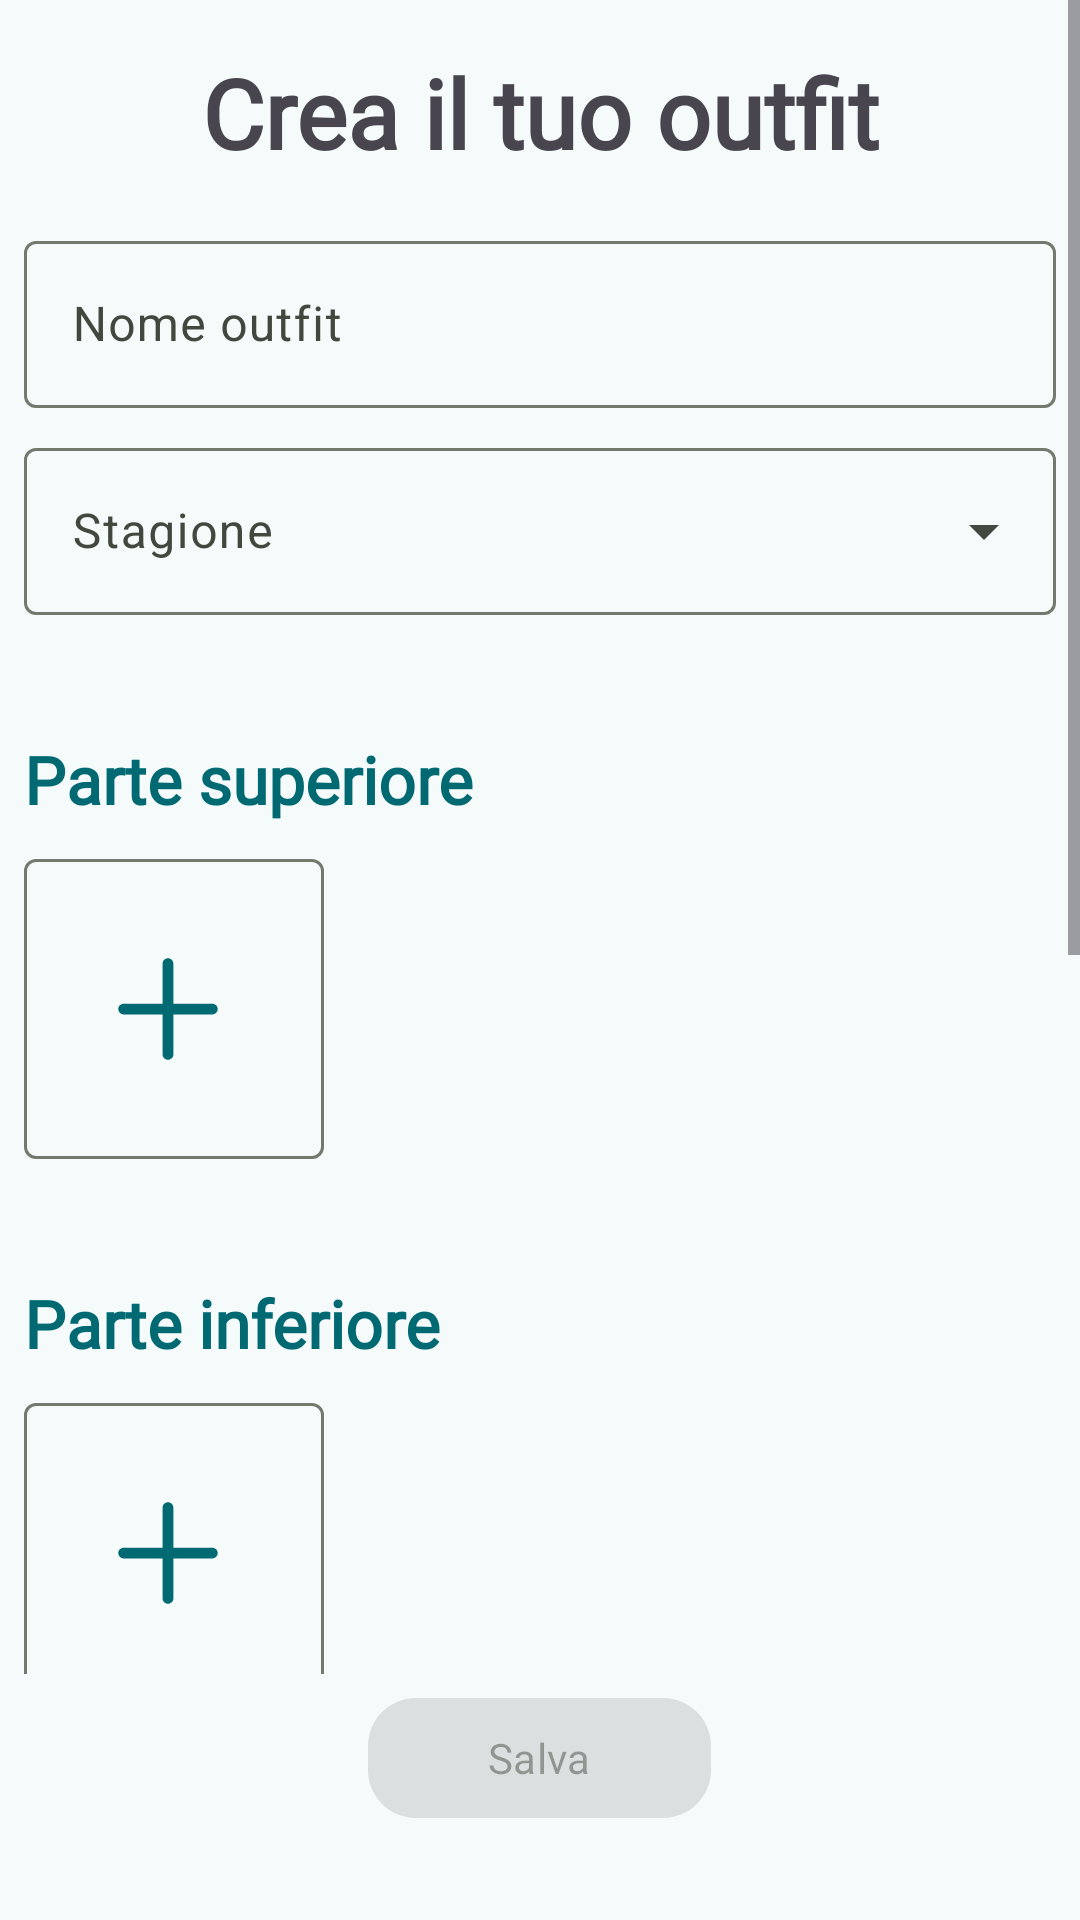

Point at icon controls on the screen. Image size 1080w x 1920h, points as point (x, y).
plus: point (174, 1009), point (174, 1538)
